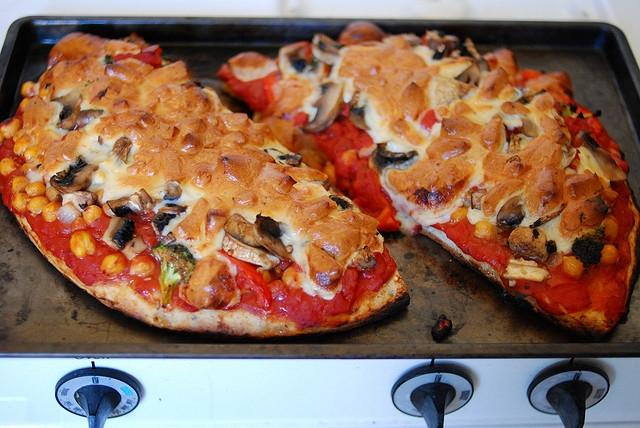broccoli: (152, 244, 196, 306), (571, 217, 608, 268), (556, 101, 592, 118)
mushroom: (574, 130, 628, 182), (222, 233, 280, 274), (303, 81, 344, 134), (253, 212, 296, 262), (50, 155, 99, 194), (368, 142, 419, 176), (508, 226, 550, 263), (106, 188, 156, 218), (224, 213, 262, 247), (278, 41, 311, 79), (51, 92, 82, 130), (102, 216, 136, 250), (311, 33, 346, 64), (460, 38, 490, 71), (496, 196, 524, 230), (455, 61, 482, 88), (428, 35, 459, 57), (151, 210, 176, 236), (112, 137, 134, 164), (74, 109, 104, 128), (520, 115, 536, 138), (158, 204, 187, 215), (508, 133, 522, 153), (546, 240, 557, 255)
